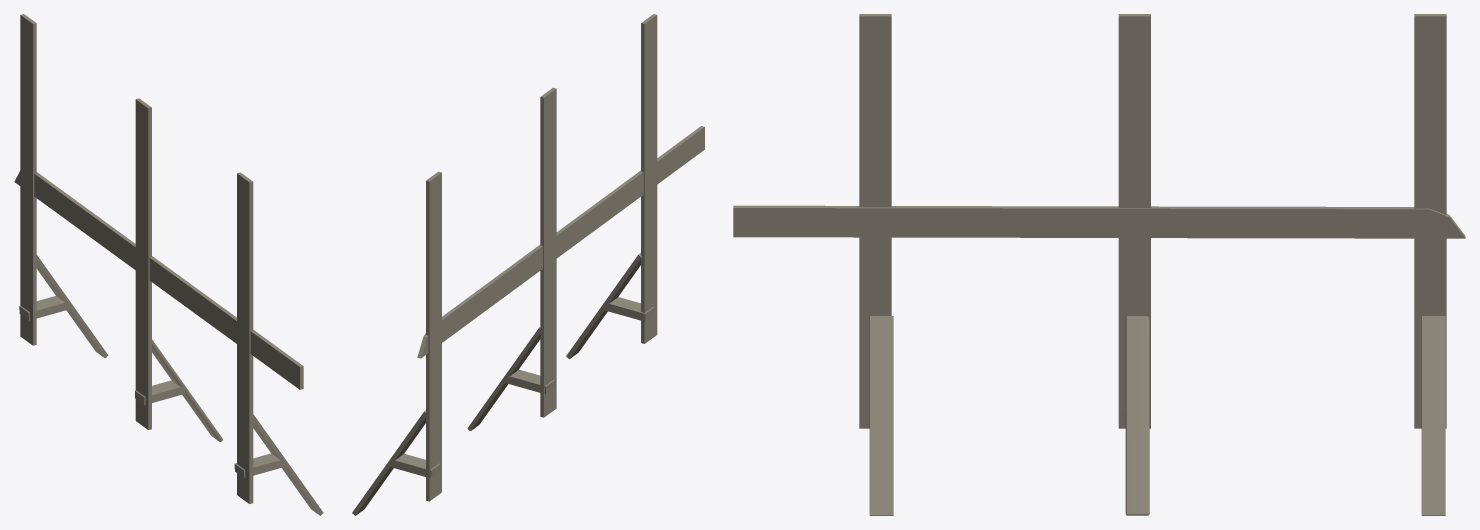
File: WALL2 HEK.fbx
3 renders of one model, left to right at view 1: azimuth 30°, elevation 25°; view 2: azimuth 150°, elevation 25°; view 3: azimuth 270°, elevation 25°, orthographic. The views are drawn at different scales.
Visible parts, largest first — view 1: pCube30; view 2: pCube30; view 3: pCube30.
Part boxes in pixels (x1=…): pCube30: x1=14, y1=14, x2=323, y2=515; pCube30: x1=352, y1=14, x2=704, y2=515; pCube30: x1=733, y1=14, x2=1465, y2=515.
Size of the model in its own units: 0.7868 by 3.34 by 4.88.
